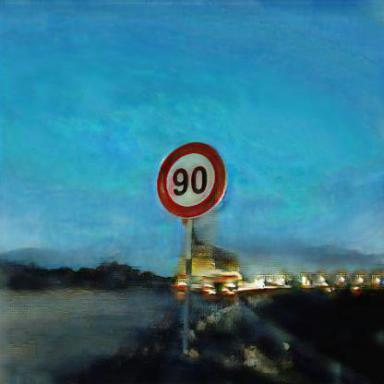Speed_limit_90: (158, 143, 225, 217)
